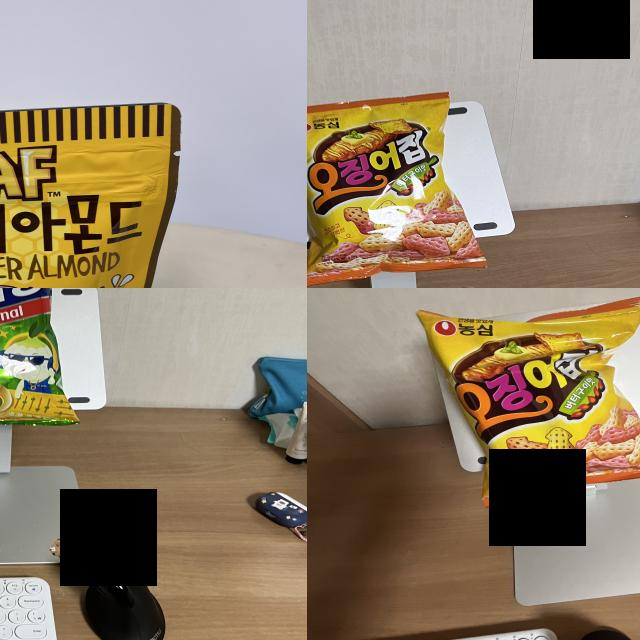honeyAmond: (0, 108, 167, 288)
onionRing: (0, 288, 52, 420)
ozingZip: (307, 107, 460, 265), (482, 323, 618, 479)
